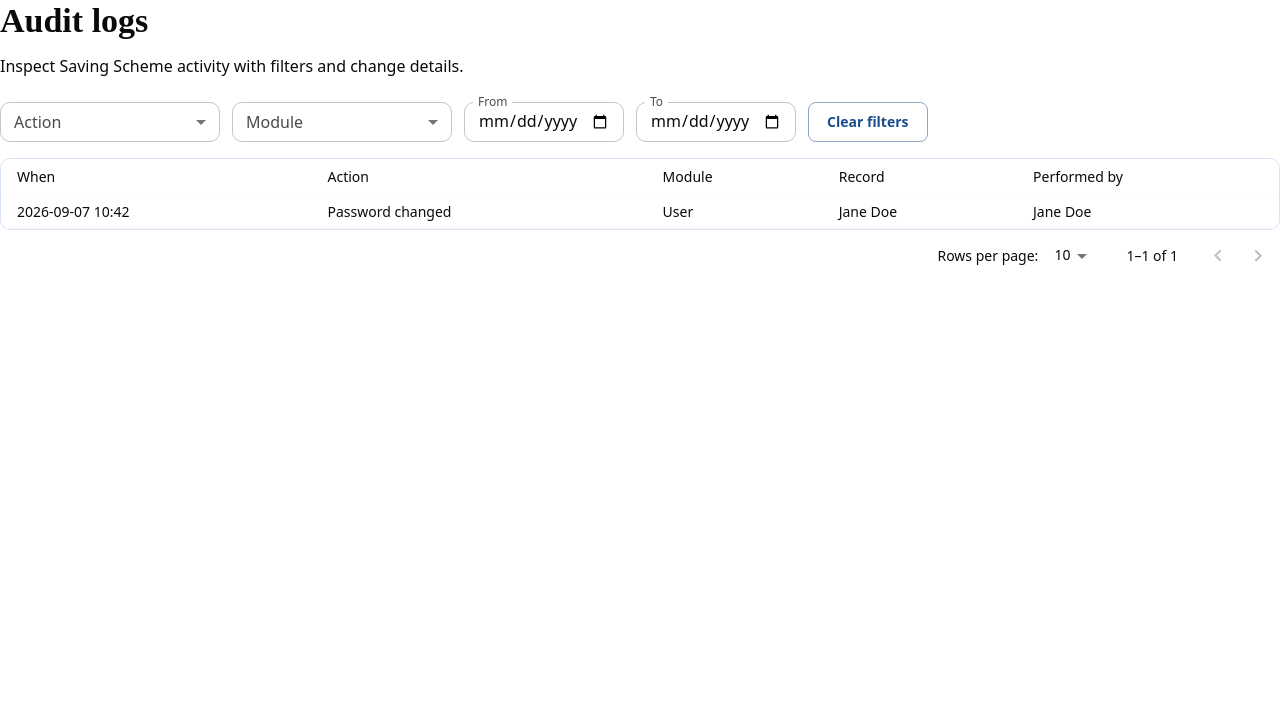
Test: AuditLogsPage presentation › shows No changes recorded when both payloads are empty
Click the text "Password changed" at (479, 212), box [312,195,647,228]
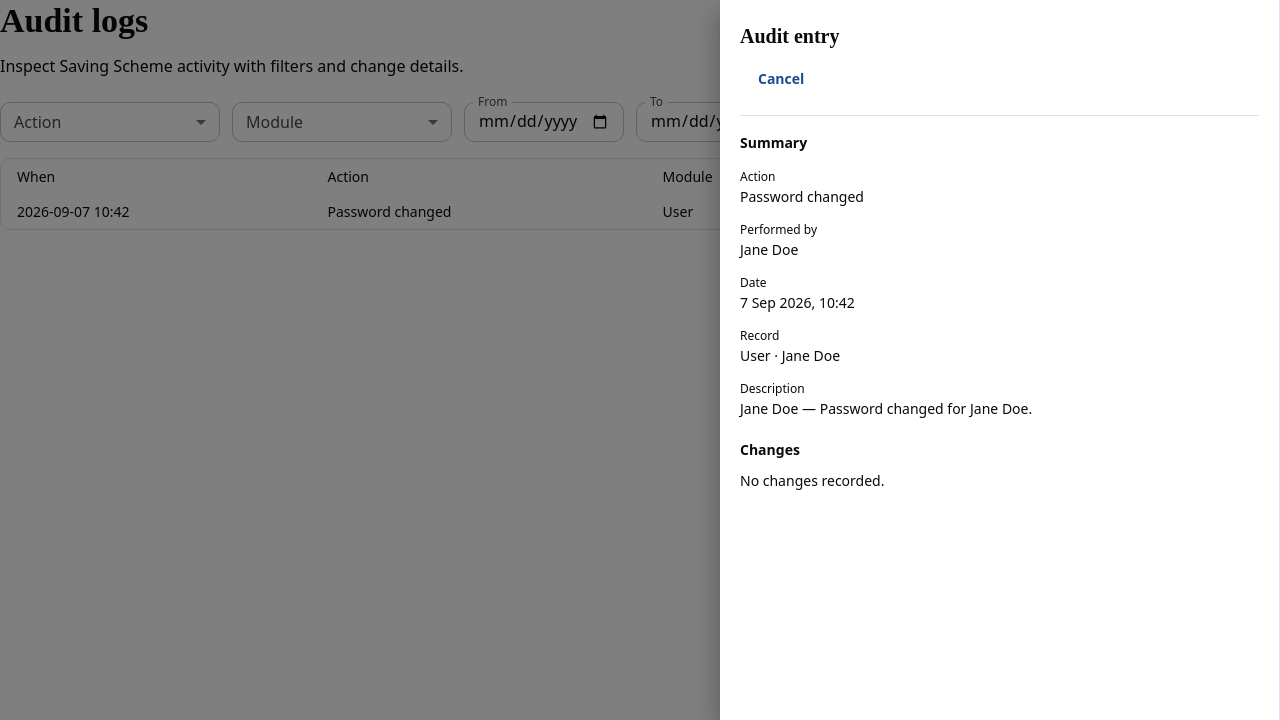
Result: the text "No changes recorded." is shown at [740,470,884,490]
